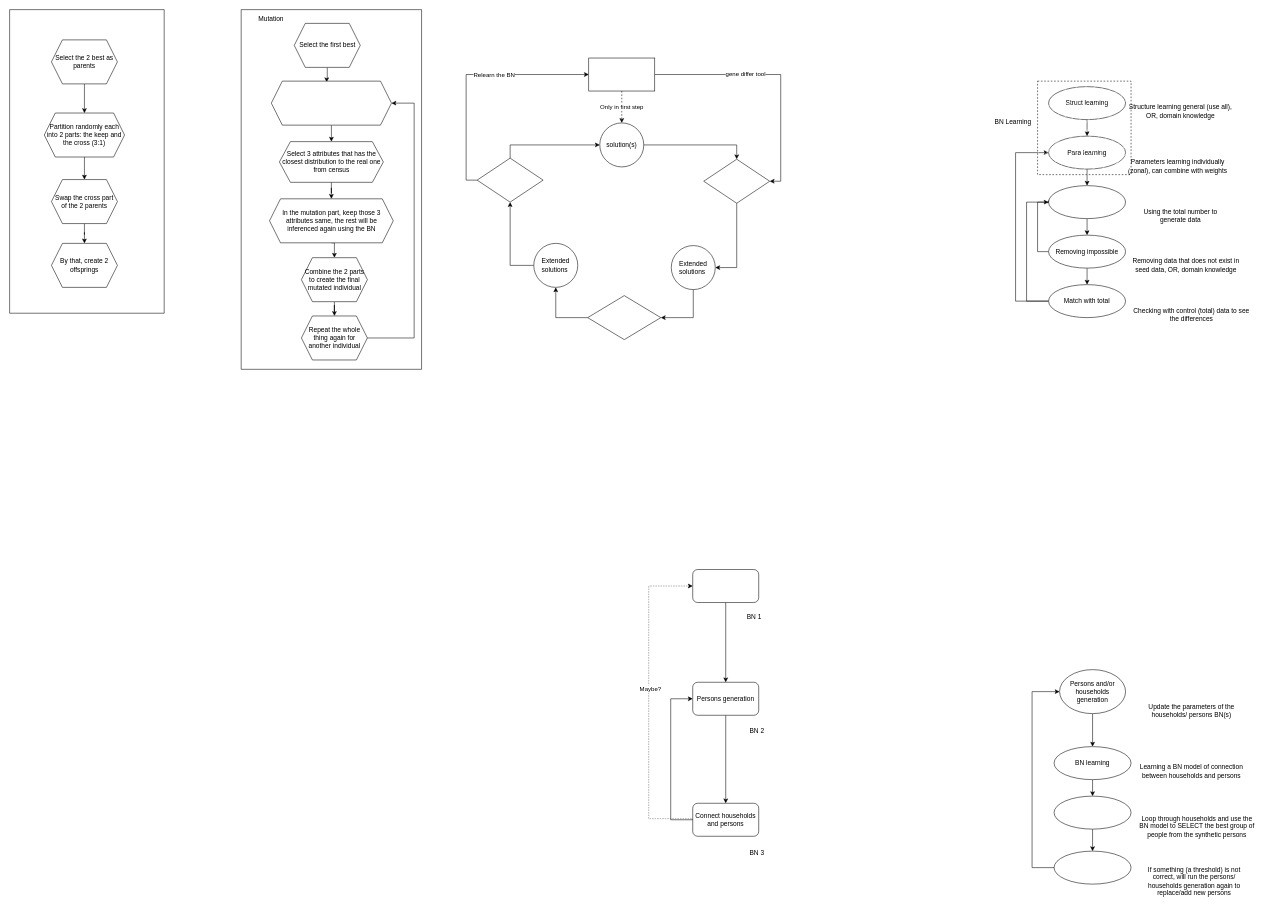
Some shapes in this 1267 by 907 pixel diagram are drawn without their labels. Here are the shapes that lost their labels. From the top down, the box of each, then its label:
(588, 57, 655, 91): BN
(271, 81, 391, 125): Partition randomly the individual into 2 parts: the keep and the mutation (4:1)
(9, 9, 164, 313): Crossover
(477, 158, 543, 202): Keeping the best only (10 individuals)
(703, 159, 770, 203): Mutation on the best (1 individual)
(1048, 185, 1126, 219): Generate data
(587, 295, 661, 340): Crossover on the best (2 individuals)
(692, 569, 759, 603): Households generation
(1054, 796, 1131, 829): Get persons
(1054, 851, 1131, 884): Matching
